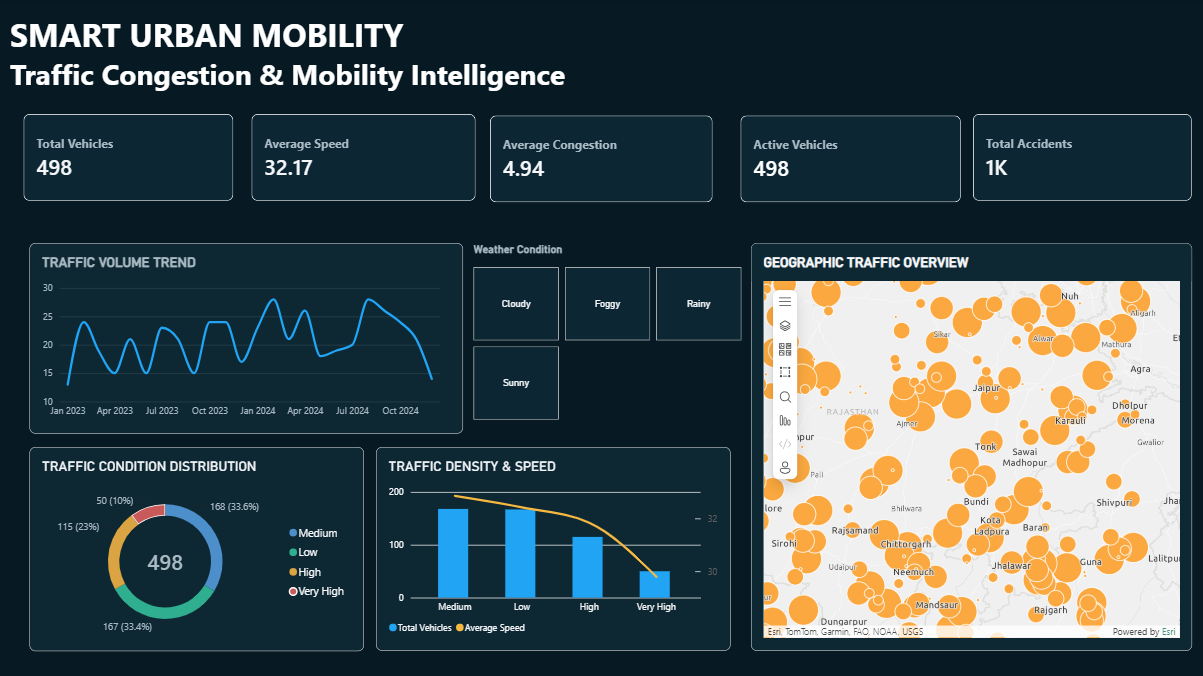

What the dashboard file says about the page in this screenshot:
{"tool":"powerbi","page":{"name":"M2-Traffic Congestion,mobility Intelligence","canvas":[1600,900],"ordinal":1},"visuals":[{"type":"cardVisual","fields":{"Data":["ride_safety_dataset.Total Vehicles"]},"box":[33.1,151.2,278.7,115.7],"z":0},{"type":"cardVisual","fields":{"Data":["ride_safety_dataset.Total Accidents"]},"box":[1292.4,151.1,290.3,115.3],"z":1000},{"type":"cardVisual","fields":{"Data":["ride_safety_dataset.Fleet Vehicles"]},"box":[985,153.5,292.9,115.7],"z":2000},{"type":"cardVisual","fields":{"Data":["ride_safety_dataset.Average Congestion"]},"box":[652,153.5,295.3,115.7],"z":3000},{"type":"cardVisual","fields":{"Data":["ride_safety_dataset.Average Speed"]},"box":[335.4,151.2,297.6,115.7],"z":4000},{"type":"textbox","box":[16.5,16.5,968.5,129.9],"z":5000},{"type":"lineChart","title":"TRAFFIC VOLUME TREND","fields":{"Category":["DimDate.Date.Variation.Date Hierarchy.Year","DimDate.Date.Variation.Date Hierarchy.Month"],"Y":["ride_safety_dataset.Total Vehicles"]},"box":[41.8,322.1,574.6,252.5],"z":6000},{"type":"advancedSlicerVisual","title":"Weather Condition","fields":{"Values":["DimWeather.Weather_Condition"]},"box":[630.3,322.1,355,235],"z":7000},{"type":"esriVisual","title":"GEOGRAPHIC TRAFFIC OVERVIEW","fields":{"Latitude":["ride_safety_dataset.Latitude"],"Location":["DimLocation.City"],"Longitude":["ride_safety_dataset.Longitude"],"Size":["ride_safety_dataset.Average Congestion"]},"box":[998.1,322.1,584.5,540.8],"z":8000},{"type":"donutChart","title":"TRAFFIC CONDITION DISTRIBUTION","fields":{"Category":["ride_safety_dataset.Traffic_Density"],"Y":["ride_safety_dataset.Total Vehicles"]},"box":[41.8,592.5,443.4,270.4],"z":9000},{"type":"lineClusteredColumnComboChart","title":"TRAFFIC DENSITY & SPEED","fields":{"Category":["ride_safety_dataset.Traffic_Density"],"Y":["ride_safety_dataset.Total Vehicles"],"Y2":["ride_safety_dataset.Average Speed"]},"box":[501,592.5,470,270],"z":10000}]}

Visuals, with their boxes in screenshot pixels (x1, y1, x2, y2), scaled from the page's 1600x900 canvas onto the 1203x676 screenshot:
cardVisual - ride_safety_dataset.Total Vehicles: (left=25, top=114, right=234, bottom=200)
cardVisual - ride_safety_dataset.Total Accidents: (left=972, top=113, right=1190, bottom=200)
cardVisual - ride_safety_dataset.Fleet Vehicles: (left=741, top=115, right=961, bottom=202)
cardVisual - ride_safety_dataset.Average Congestion: (left=490, top=115, right=712, bottom=202)
cardVisual - ride_safety_dataset.Average Speed: (left=252, top=114, right=476, bottom=200)
textbox: (left=12, top=12, right=741, bottom=110)
"TRAFFIC VOLUME TREND" lineChart: (left=31, top=242, right=463, bottom=432)
"Weather Condition" advancedSlicerVisual: (left=474, top=242, right=741, bottom=418)
"GEOGRAPHIC TRAFFIC OVERVIEW" esriVisual: (left=750, top=242, right=1190, bottom=648)
"TRAFFIC CONDITION DISTRIBUTION" donutChart: (left=31, top=445, right=365, bottom=648)
"TRAFFIC DENSITY & SPEED" lineClusteredColumnComboChart: (left=377, top=445, right=730, bottom=648)
